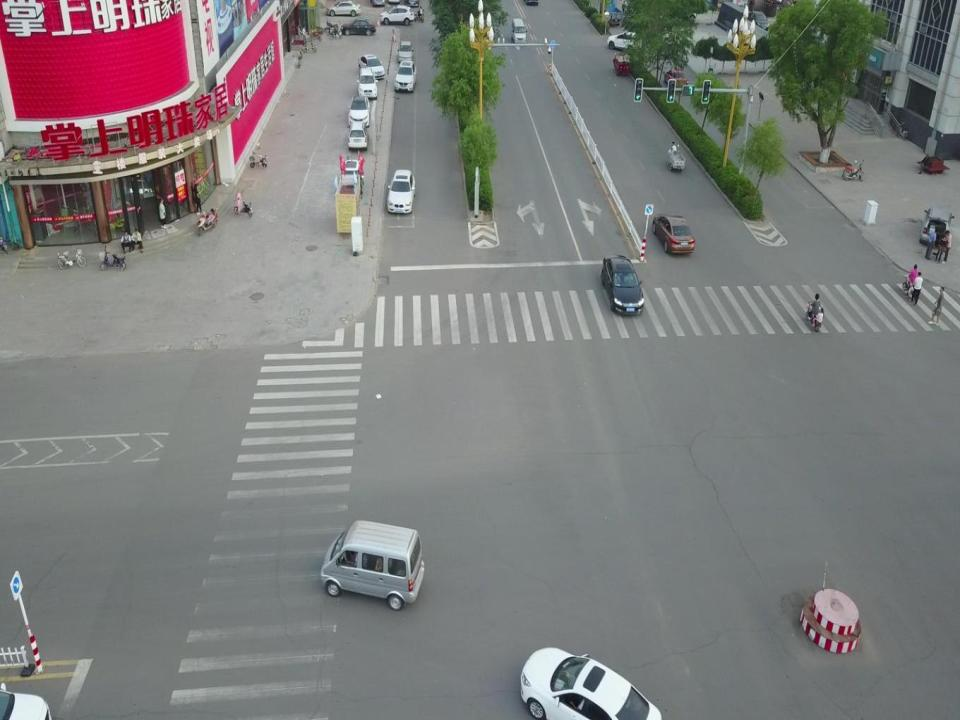car: (521, 645, 660, 720), (601, 254, 645, 314), (0, 681, 57, 719), (652, 212, 695, 254), (385, 170, 415, 214), (922, 207, 954, 245), (342, 160, 364, 195), (606, 31, 642, 51), (395, 60, 417, 92), (380, 6, 414, 26), (358, 54, 385, 79), (358, 68, 378, 100), (348, 97, 370, 126), (342, 19, 376, 36), (348, 122, 368, 150), (668, 4, 698, 22), (326, 2, 362, 17), (746, 10, 770, 30), (664, 68, 688, 88), (396, 42, 414, 62), (525, 0, 539, 7), (373, 0, 385, 8), (406, 0, 418, 7), (390, 0, 400, 7)
truck: (599, 0, 623, 29)
van: (320, 519, 426, 611), (511, 19, 527, 44)
